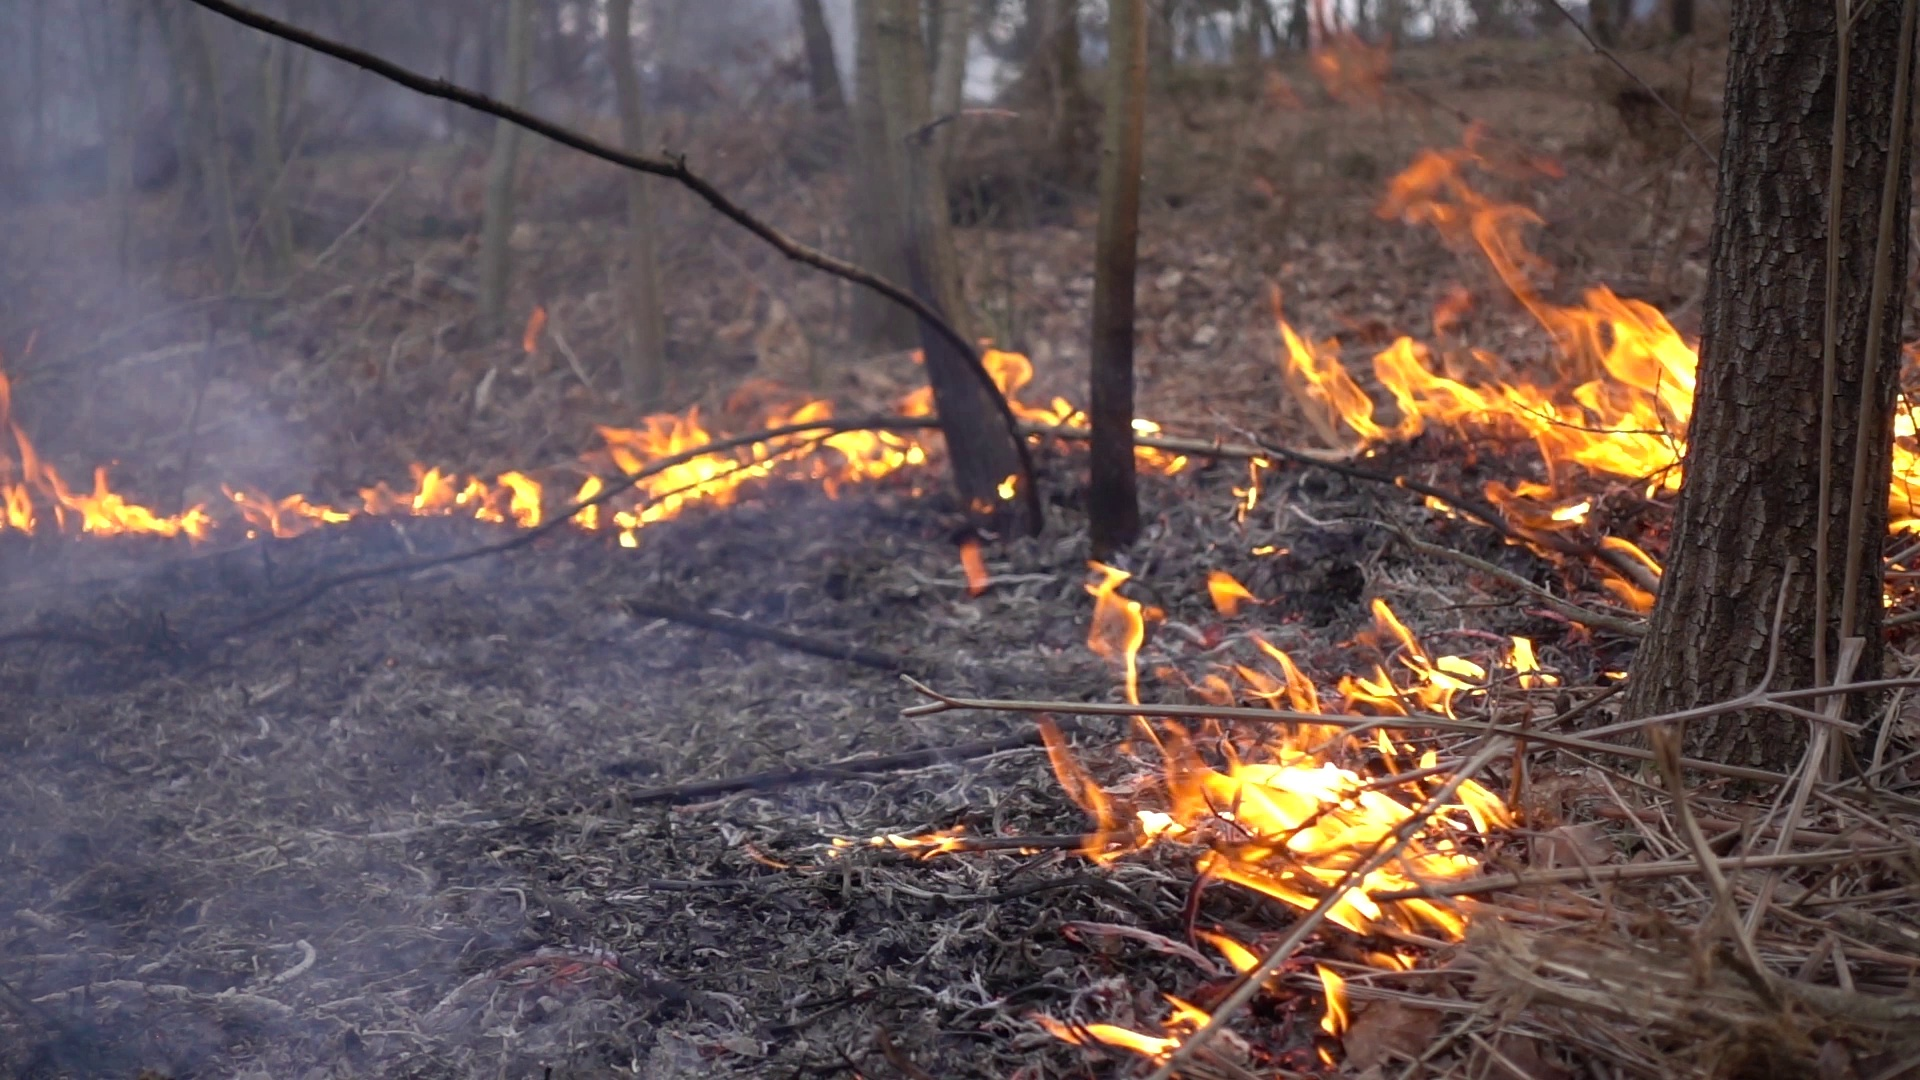fire: (1048, 582, 1534, 1004), (1269, 241, 1687, 513), (595, 405, 906, 510), (3, 459, 196, 539), (385, 463, 539, 525), (985, 352, 1088, 444), (222, 475, 343, 542), (1894, 400, 1920, 542)
